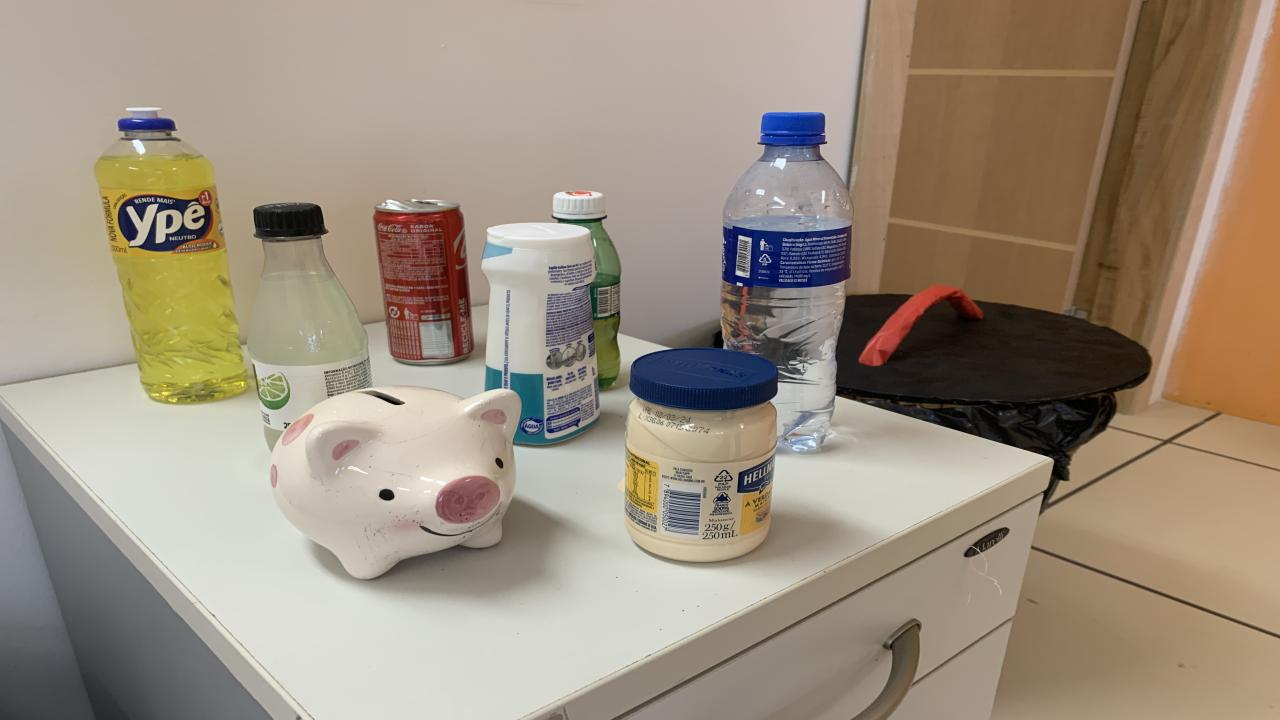Cleaner-Cleanup_Items: (482, 223, 600, 444)
Coke-Drinks: (372, 199, 472, 364)
Detergent-Cleanup_Items: (95, 109, 248, 403)
Guarana-Drinks: (552, 189, 622, 388)
Mayonnaise-Pantry_Items: (622, 349, 778, 562)
Pig_Safe-Miscellaneous: (270, 386, 520, 579)
Soda-Drinks: (248, 202, 370, 448)
Water_Bottle-Drinks: (720, 112, 852, 452)
